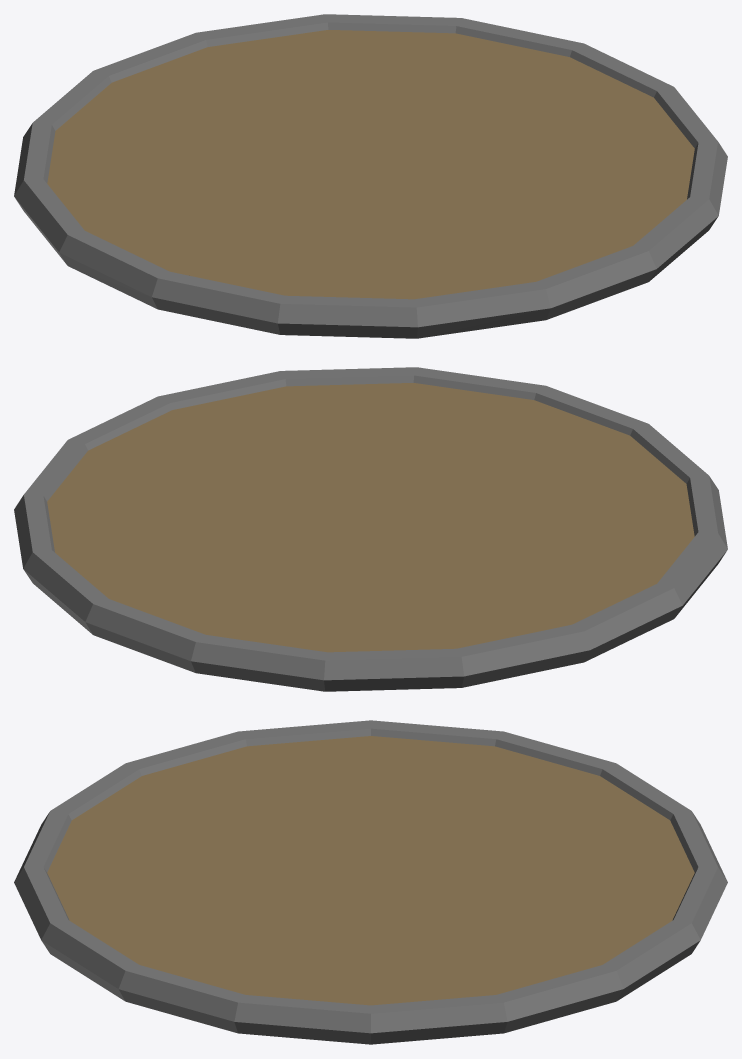
Rendered from treeBase.glb.
The picture shows the model from 3 angles, top to bottom: view 1: azimuth 30°, elevation 25°; view 2: azimuth 150°, elevation 25°; view 3: azimuth 270°, elevation 25°; orthographic projection.
Visible parts, largest first — view 1: Plane.002, Torus; view 2: Plane.002, Torus; view 3: Plane.002, Torus.
Part boxes in pixels (x1,y1,x2,y2): Plane.002: (47, 30, 694, 299); Torus: (14, 14, 727, 338); Plane.002: (47, 383, 694, 652); Torus: (14, 367, 727, 691); Plane.002: (47, 736, 694, 1005); Torus: (14, 720, 727, 1044).
Size of the model in its own units: 2.54 by 0.1212 by 2.54.
